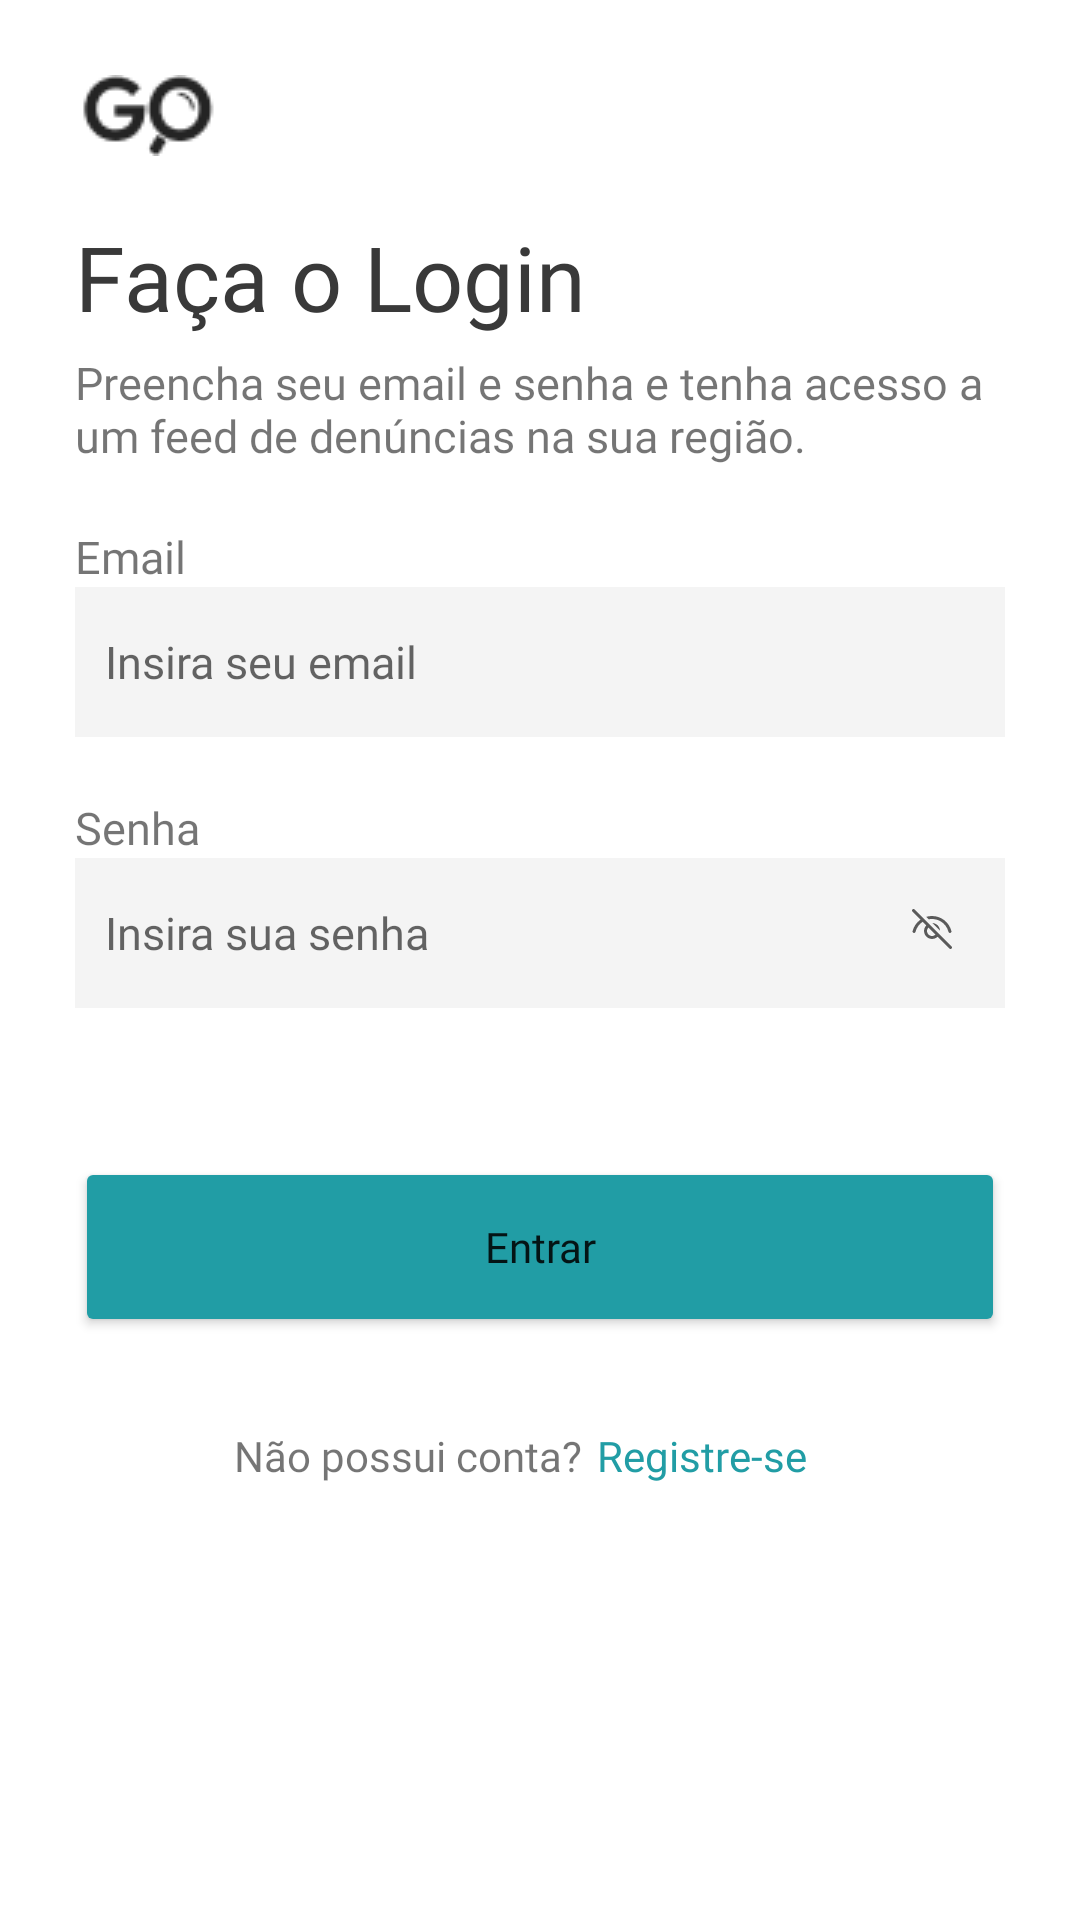

Point at icon controls on the screen. Image size 1080px×1920px, points as (x=x, y=y).
password: (x=932, y=929)
